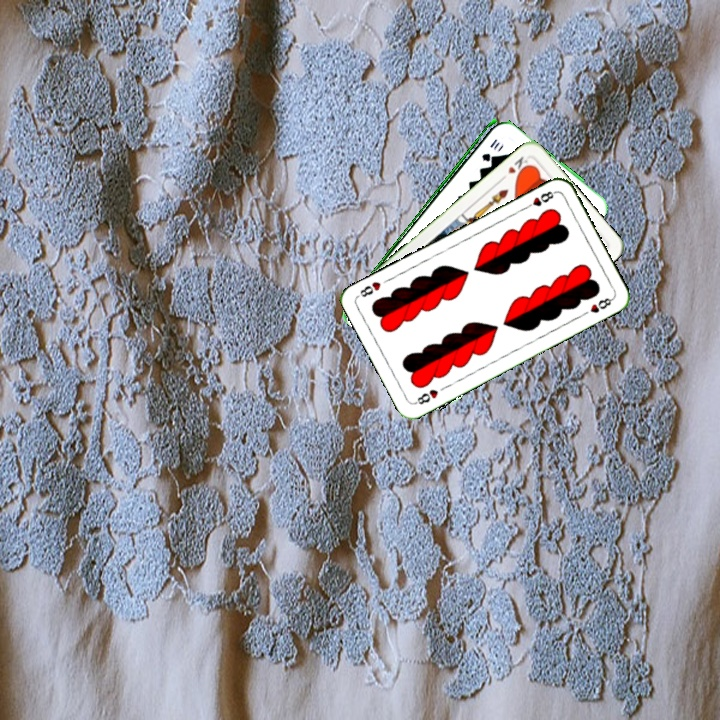G10: (477, 135, 500, 163)
H8: (521, 187, 558, 212), (411, 385, 441, 407)
HK: (496, 152, 534, 183)
